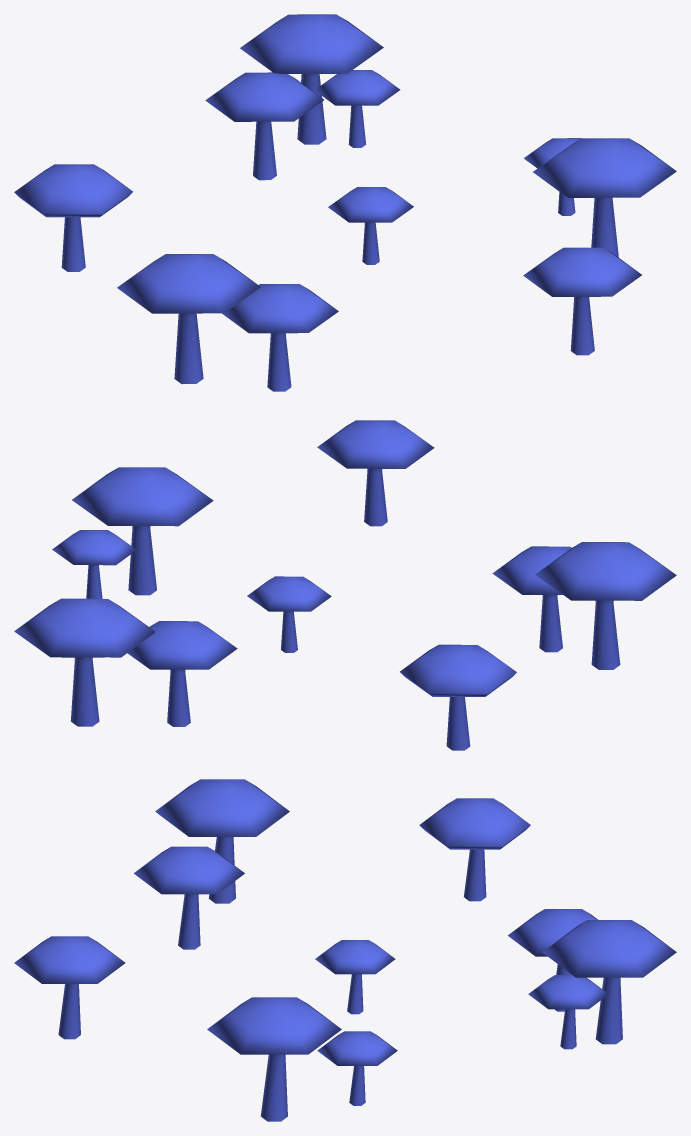
The model's file is Mushroom_Extra_FrostyFields.fbx.
3 renders of one model, top to bottom at view 1: azimuth 30°, elevation 25°; view 2: azimuth 150°, elevation 25°; view 3: azimuth 270°, elevation 25°, orthographic. The views are drawn at different scales.
Parts seen in each view (by area): view 1: Mushroom_Snow_01.001; view 2: Mushroom_Snow_01.001; view 3: Mushroom_Snow_01.001.
Boxes of the visible parts, <box> form: Mushroom_Snow_01.001: <box>14,14,676,391</box>; Mushroom_Snow_01.001: <box>14,420,676,750</box>; Mushroom_Snow_01.001: <box>14,779,676,1121</box>.
Size of the model in its own units: 94.1 by 23.29 by 103.
